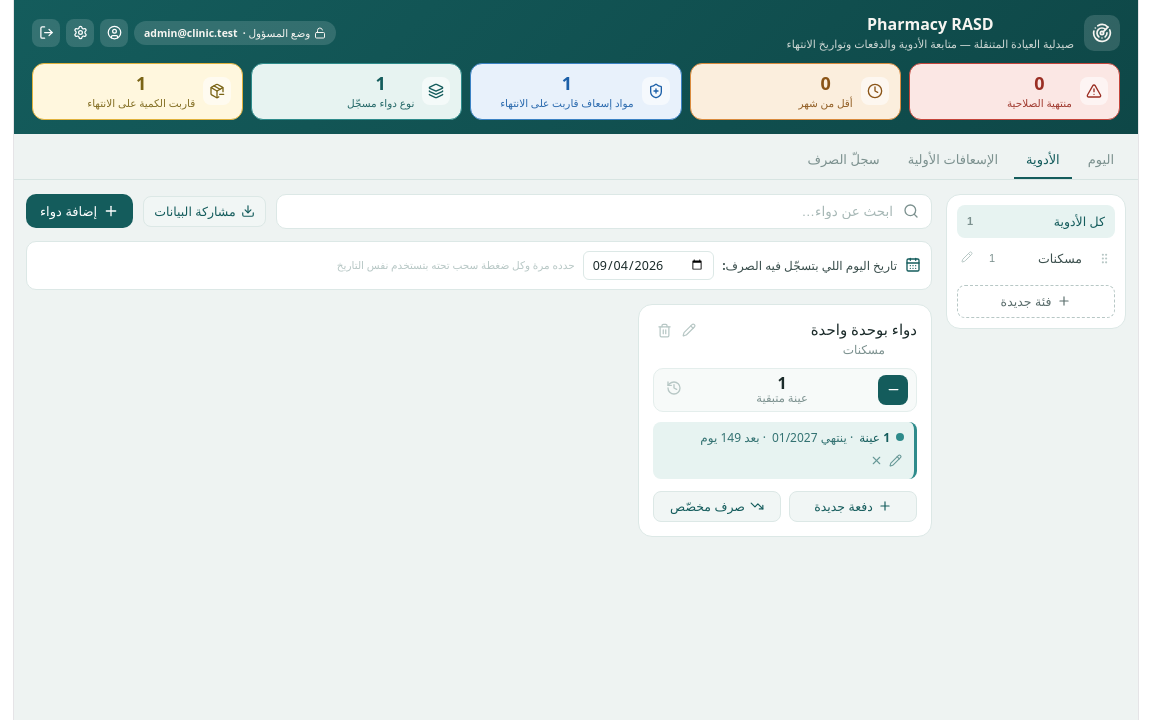
Test: KPI cards — medFilter and firstAidFilter stay independent › clicking the medication low-stock KPI does not activate the first-aid low-stock filter
What coordinates should you click on to do the following:
click the button "1 قاربت الكمية على الانتهاء"
I would click on:
 (138, 91)
Its box is x1=32 y1=63 x2=243 y2=120.
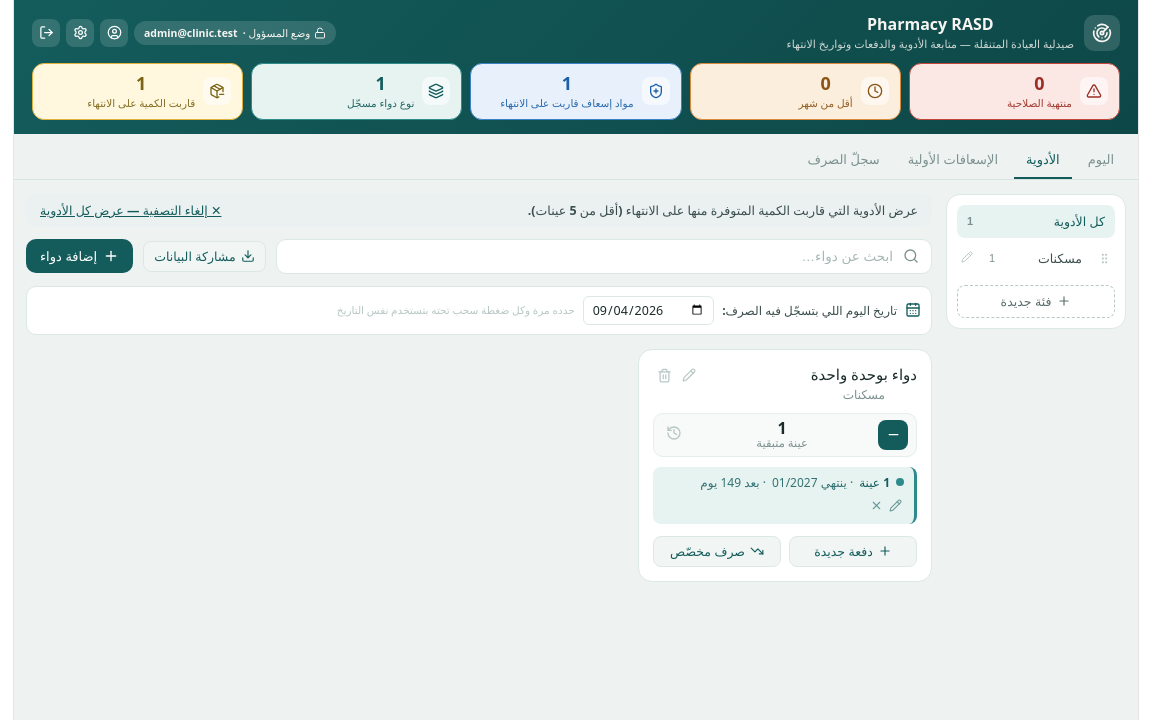
firstAidFilter must remain "all" — both items still show on First Aid
What coordinates should you click on to do the following:
click the button "الإسعافات الأولية"
I would click on:
 (953, 160)
Its box is x1=896 y1=142 x2=1010 y2=179.
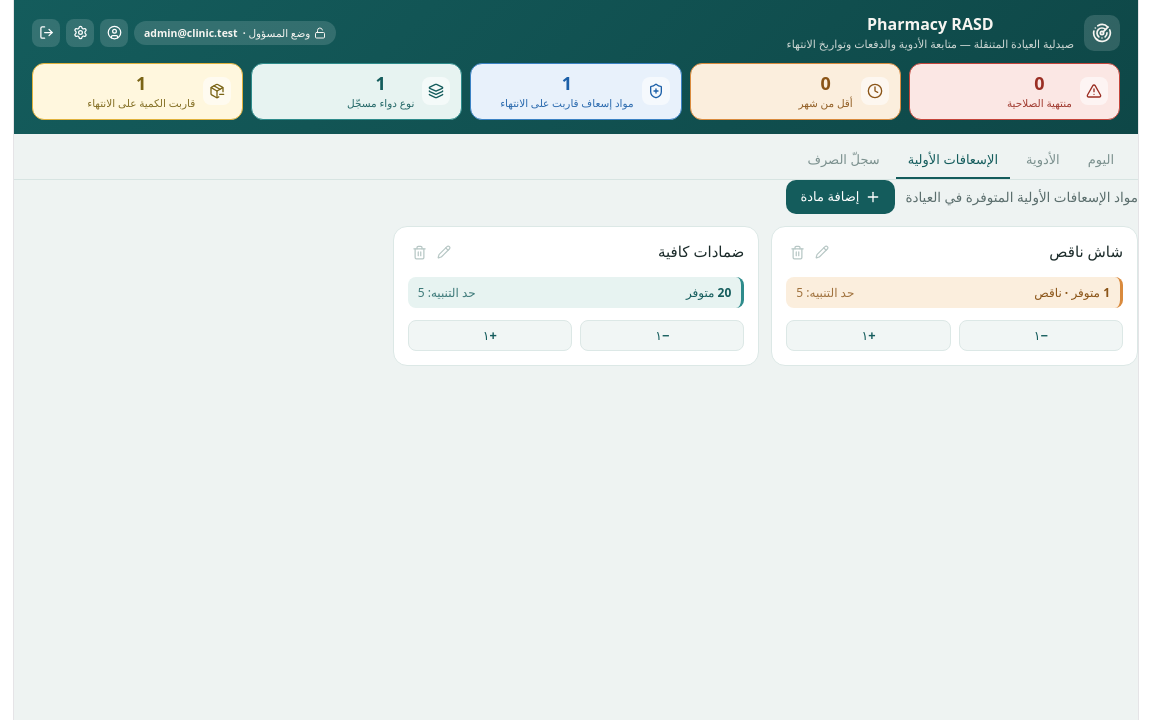
Expected: the text "شاش ناقص" is shown, x1=1049 y1=241 x2=1123 y2=261
Expected: the text "ضمادات كافية" is shown, x1=658 y1=241 x2=744 y2=261
